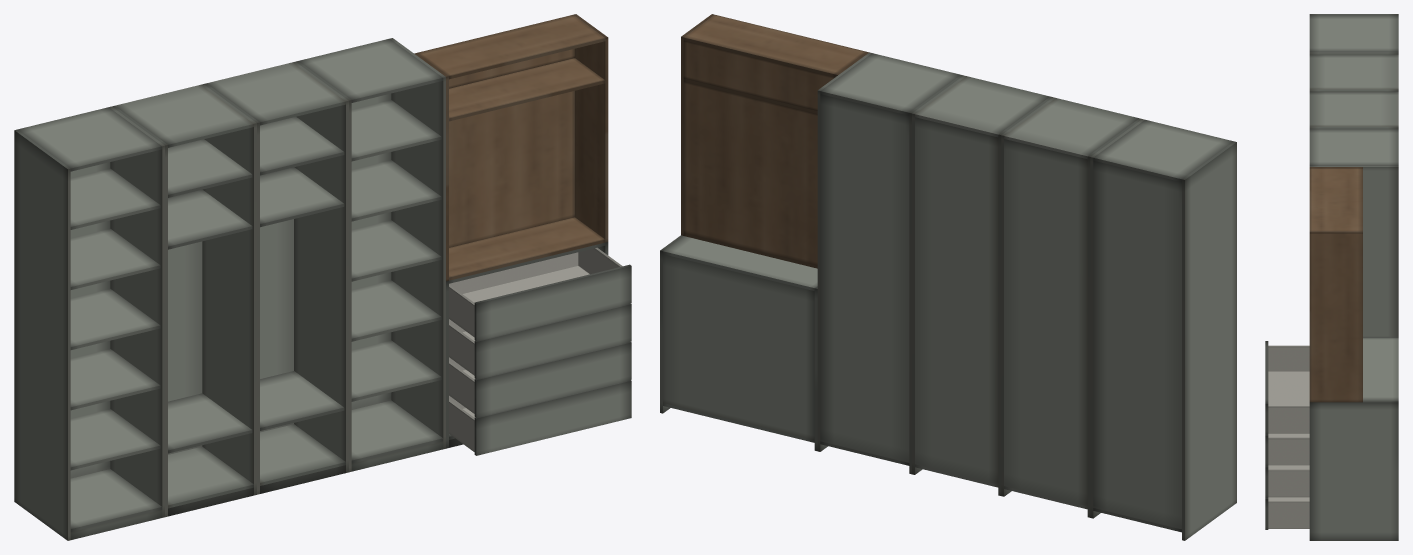
The model's file is meuble.glb.
3 views of the same model, side by side, from view 1: azimuth 30°, elevation 25°; view 2: azimuth 150°, elevation 25°; view 3: azimuth 270°, elevation 25° (orthographic). The views are drawn at different scales.
Visible parts, largest first — view 1: world; view 2: world; view 3: world.
Part boxes in pixels (box(x1,y1,x2,y2)): world: box(14, 14, 631, 540); world: box(660, 14, 1236, 540); world: box(1265, 14, 1398, 540).
Bounding box in the file's own units: 3.5 × 2.3 × 0.9.
Materials: 1 (1 with a texture image).
